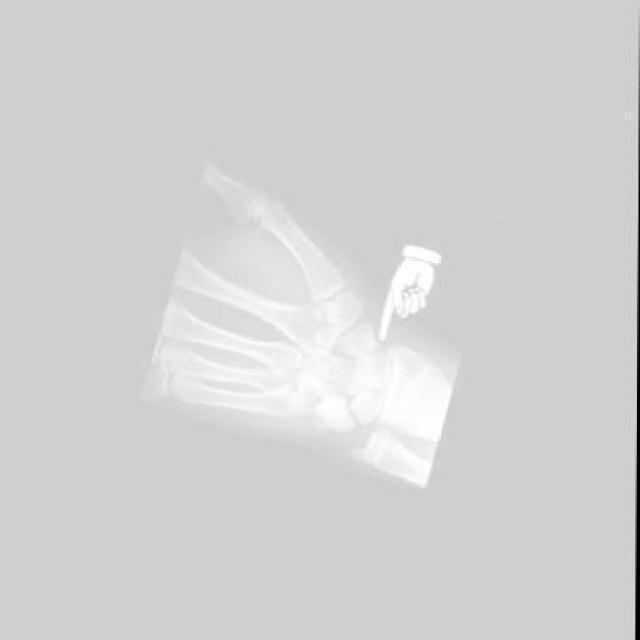bone: (358, 344, 386, 372)
